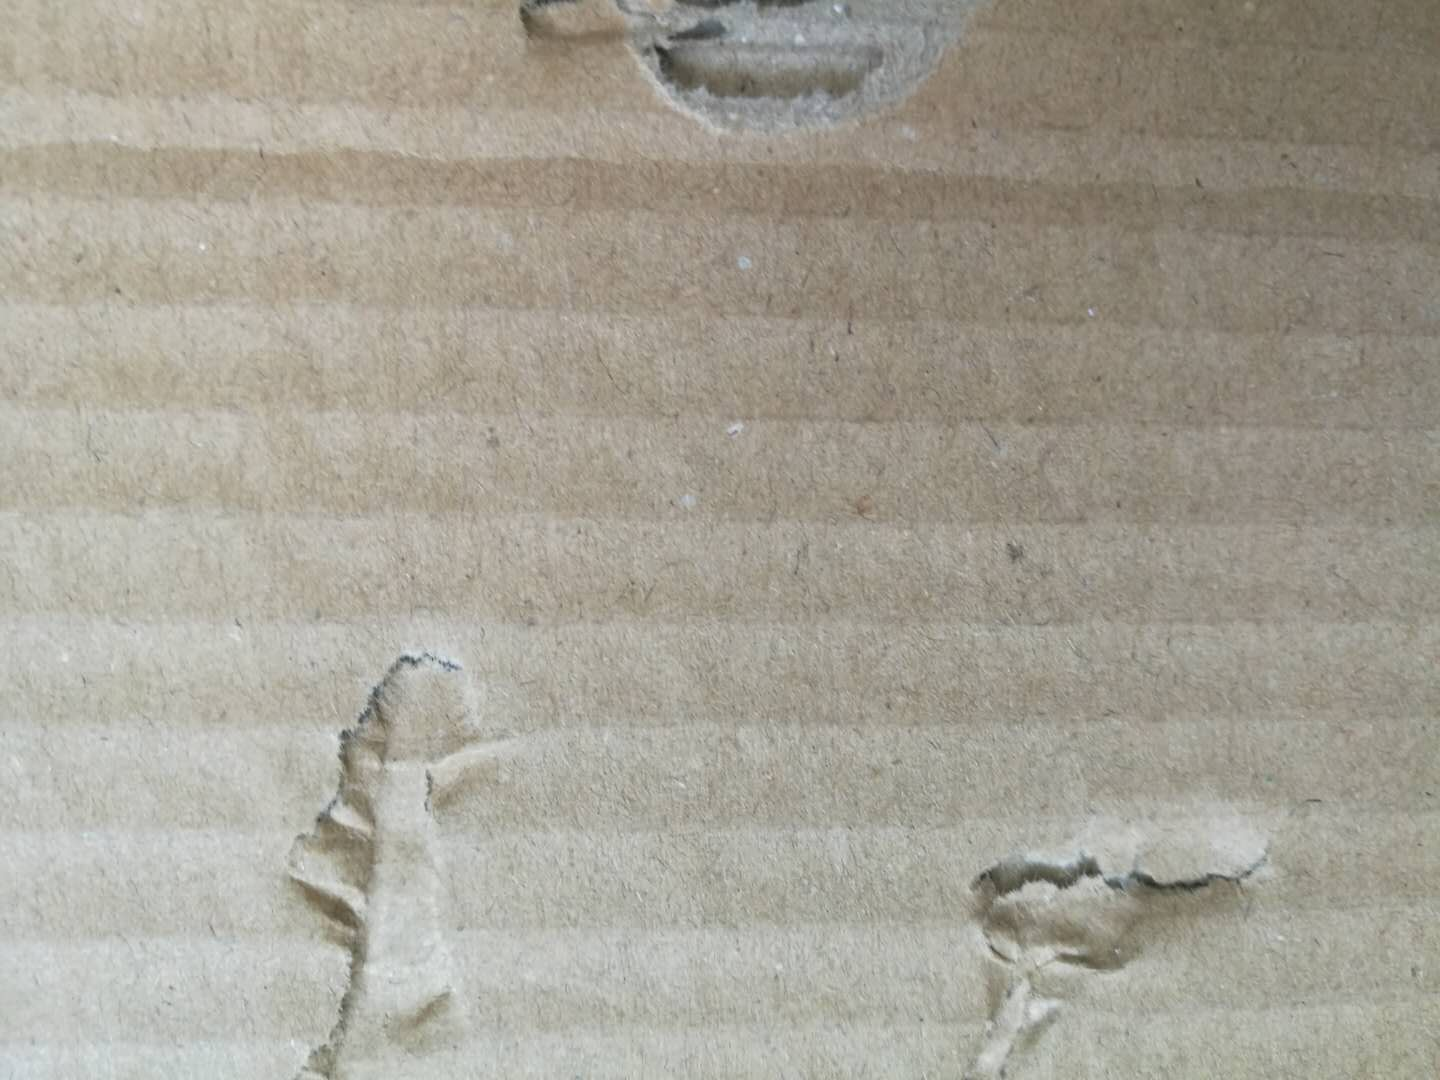defect: (220, 602, 592, 1080), (917, 770, 1331, 1080), (488, 1, 1031, 196)
